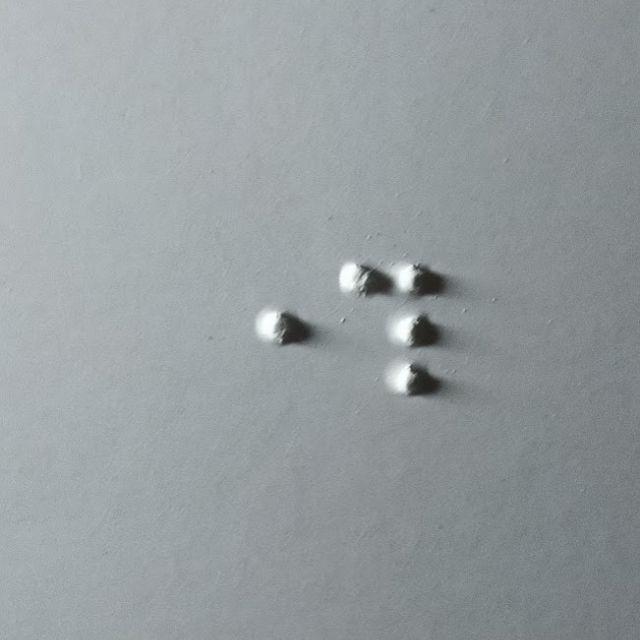dot_5: (208, 264, 299, 395)
panahon: (340, 263, 432, 394)
